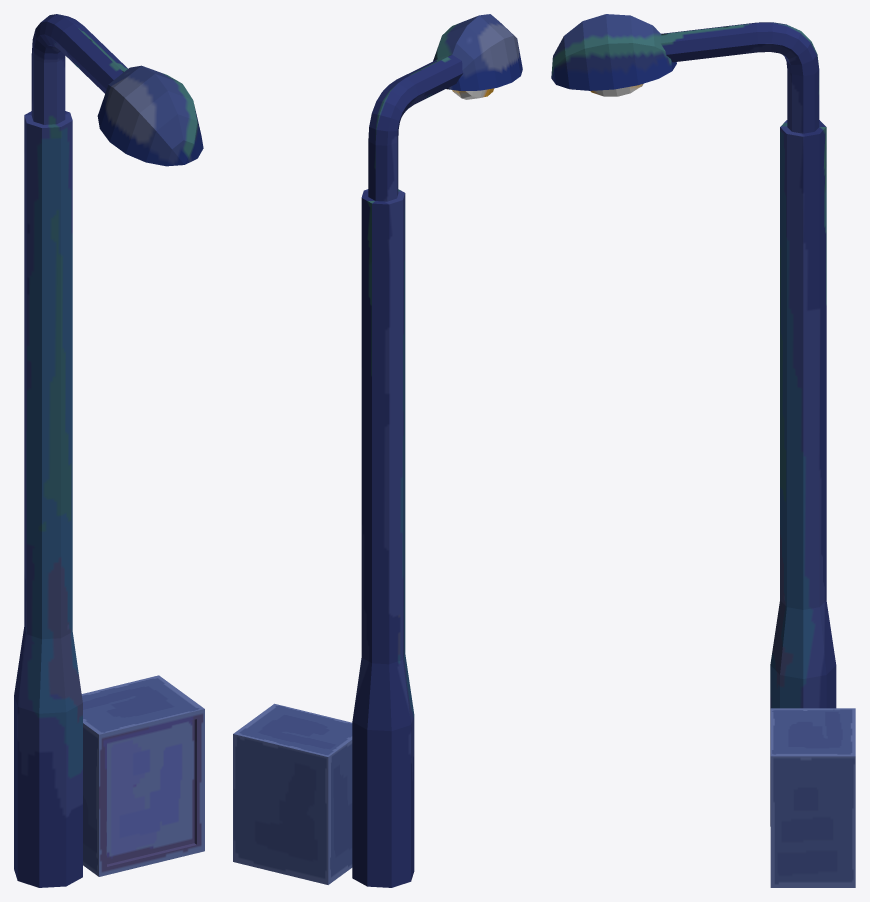
The model's file is lampadaire  1.fbx.
3 views of the same model, side by side, from view 1: azimuth 30°, elevation 25°; view 2: azimuth 150°, elevation 25°; view 3: azimuth 270°, elevation 25° (orthographic). The views are drawn at different scales.
Visible parts, largest first — view 1: Sphere; view 2: Sphere; view 3: Sphere.
Part boxes in pixels (x1,y1,x2,y2): Sphere: (14, 14, 204, 887); Sphere: (233, 14, 522, 887); Sphere: (551, 14, 855, 887).
Bounding box in the file's own units: 187 × 873 × 297.
1 material, 1 textured.
